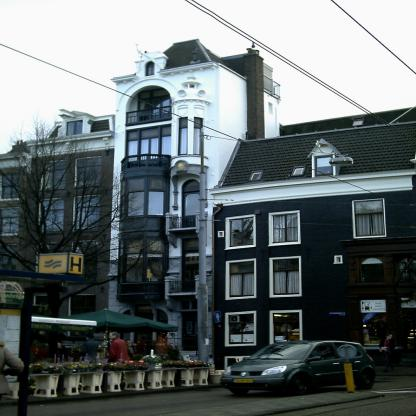Car: (221, 339, 375, 394)
